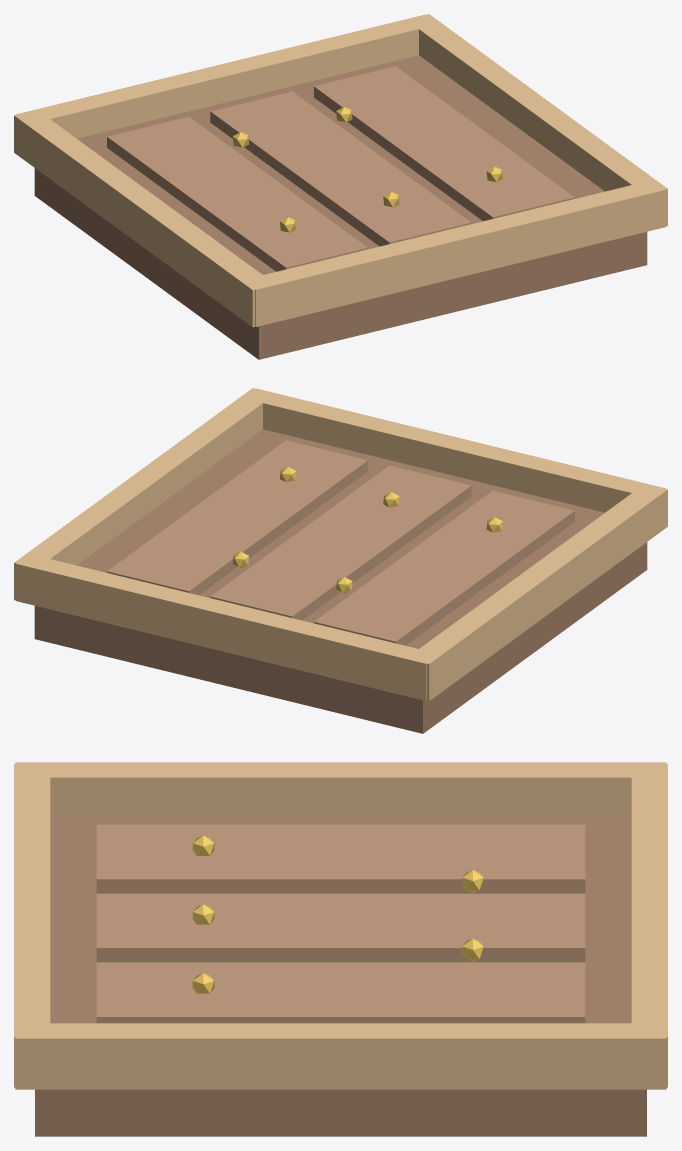
File: plot_fertilized.glb
The picture shows the model from 3 angles, top to bottom: view 1: azimuth 30°, elevation 25°; view 2: azimuth 150°, elevation 25°; view 3: azimuth 270°, elevation 25°; orthographic projection. The views are drawn at different scales.
Parts seen in each view (by area): view 1: square soil bed.002, short timber edge.004, raised planting row.006, raised planting row.007, raised planting row.008, short timber edge.005, long timber edge.004, long timber edge.005; view 2: square soil bed.002, short timber edge.005, raised planting row.006, raised planting row.007, raised planting row.008, short timber edge.004, long timber edge.004, long timber edge.005; view 3: square soil bed.002, long timber edge.005, raised planting row.007, raised planting row.006, long timber edge.004, raised planting row.008, short timber edge.005, short timber edge.004.
Part boxes in pixels (<box>): square soil bed.002: <box>34,55,647,359</box>; short timber edge.004: <box>243,180,665,326</box>; raised planting row.006: <box>107,117,367,271</box>; raised planting row.007: <box>210,91,471,246</box>; raised planting row.008: <box>314,66,574,221</box>; short timber edge.005: <box>16,14,437,138</box>; long timber edge.004: <box>14,110,270,327</box>; long timber edge.005: <box>407,14,667,226</box>; square soil bed.002: <box>34,429,647,733</box>; short timber edge.005: <box>16,554,438,700</box>; raised planting row.006: <box>314,491,574,645</box>; raised planting row.007: <box>210,465,471,620</box>; raised planting row.008: <box>107,440,367,595</box>; short timber edge.004: <box>243,388,665,512</box>; long timber edge.004: <box>411,484,667,701</box>; long timber edge.005: <box>14,388,274,600</box>; square soil bed.002: <box>35,813,646,1136</box>; long timber edge.005: <box>15,1023,666,1089</box>; raised planting row.007: <box>96,893,585,962</box>; raised planting row.006: <box>96,824,585,893</box>; long timber edge.004: <box>15,762,666,813</box>; raised planting row.008: <box>96,962,585,1023</box>; short timber edge.005: <box>631,764,667,1087</box>; short timber edge.004: <box>14,764,50,1087</box>.
Bounding box in the file's own units: 2.33 × 0.42 × 2.33.
